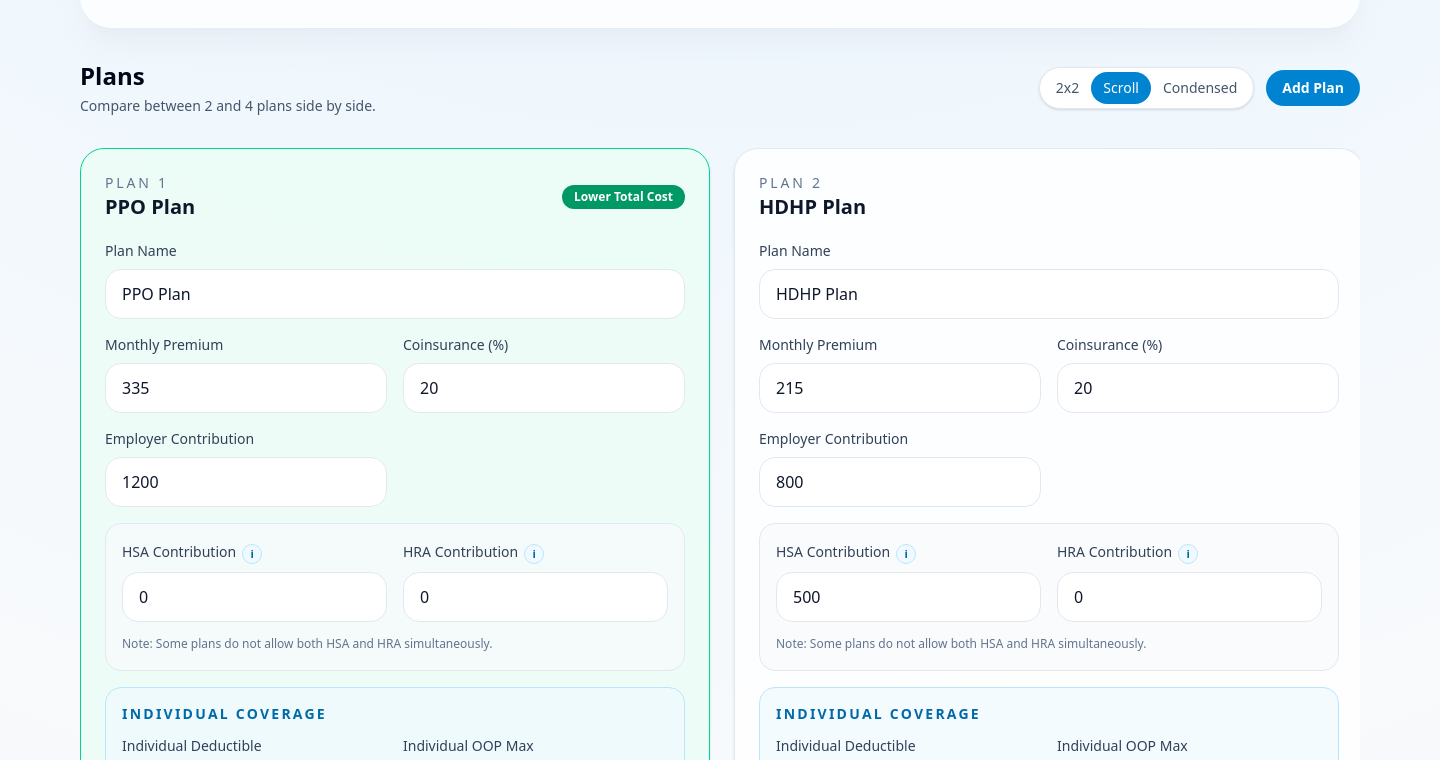
Test: App integration › renders a winning-plan explanation and updates it based on calculator results
The width and height of the screenshot is (1440, 760).
(page scrolled)
Replace the text in the number field labelled "Monthly Premium" below "Lower Total Cost" with "100" at point(246, 388), box [105,363,387,413]
(page scrolled)
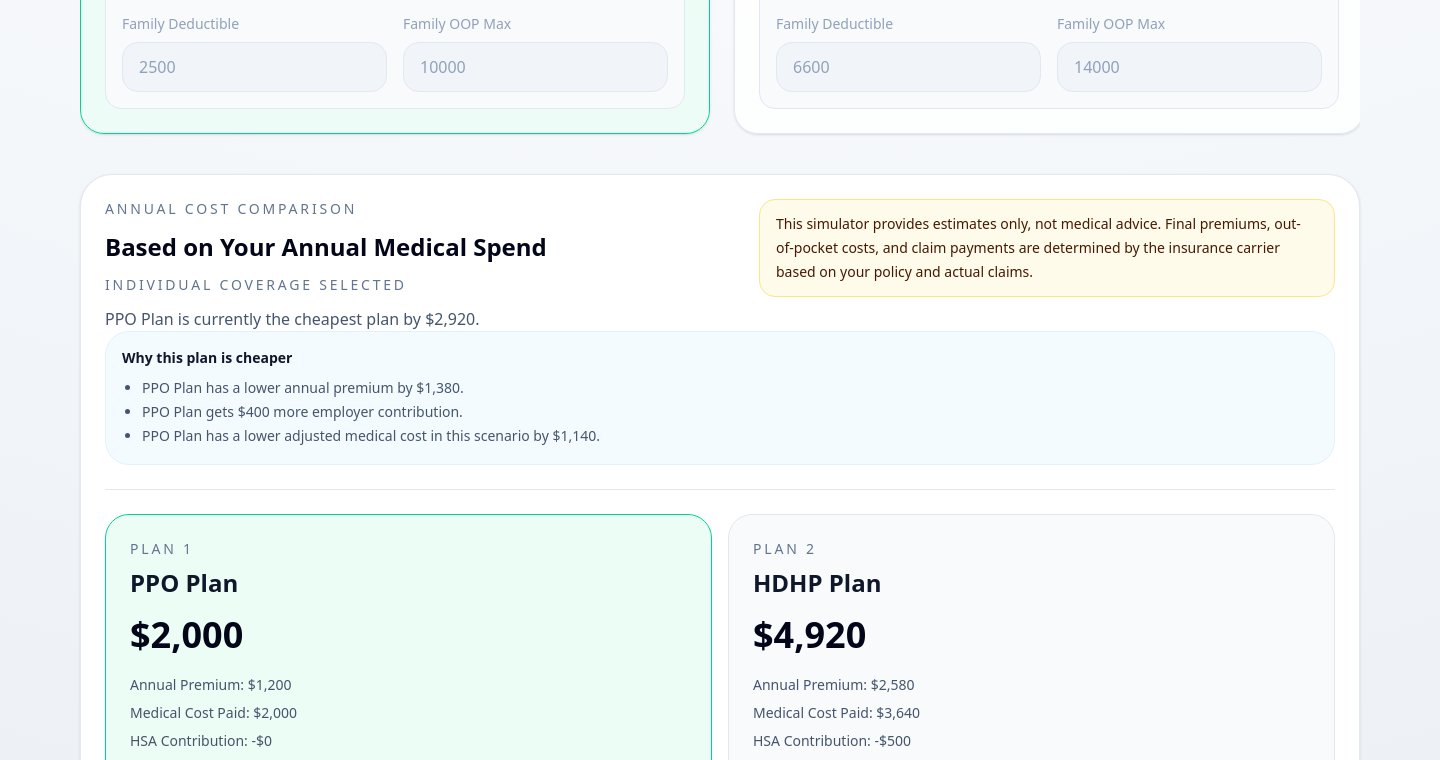
Result: the list item "PPO Plan has a lower annual premium by $1,380." is shown at [142,378,464,397]
